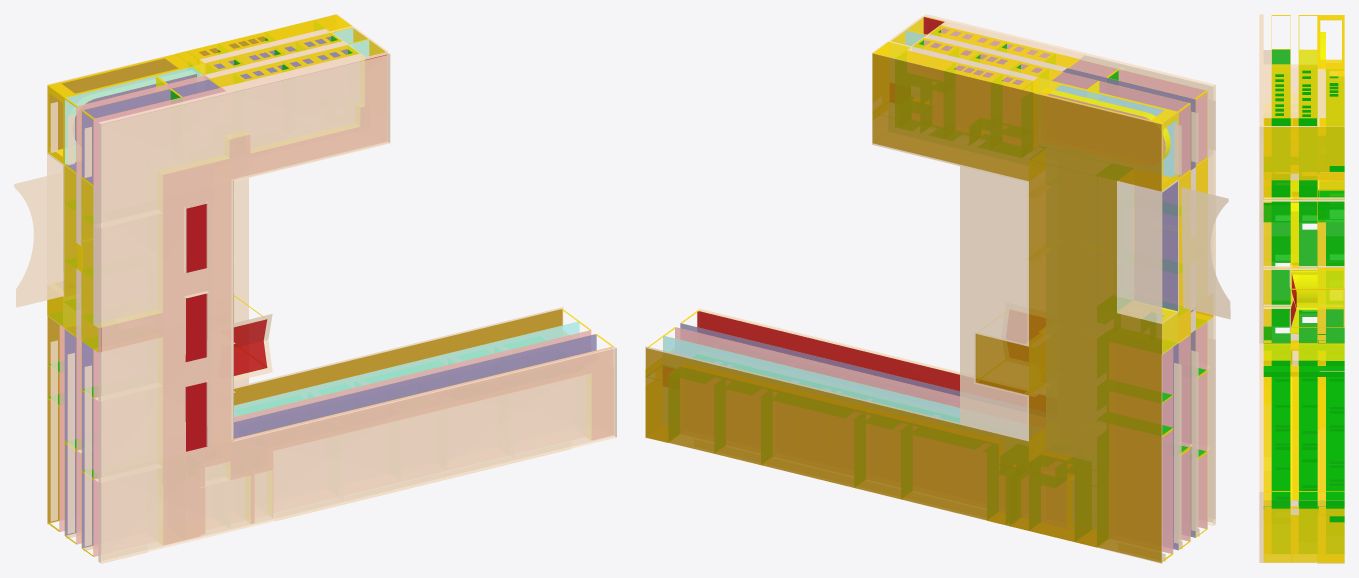
Rendered from hello-world-2020-11-27.gltf.
3 views of the same model, side by side, from view 1: azimuth 30°, elevation 25°; view 2: azimuth 150°, elevation 25°; view 3: azimuth 270°, elevation 25° (orthographic). The views are drawn at different scales.
Visible parts, largest first — view 1: GBXmeshGroup; view 2: GBXmeshGroup; view 3: GBXmeshGroup.
Part boxes in pixels (bbox=[...]): GBXmeshGroup: bbox=[14, 14, 616, 563]; GBXmeshGroup: bbox=[645, 14, 1230, 563]; GBXmeshGroup: bbox=[1259, 14, 1344, 563].
Bounding box in the file's own units: 72.84 × 55.08 × 12.
